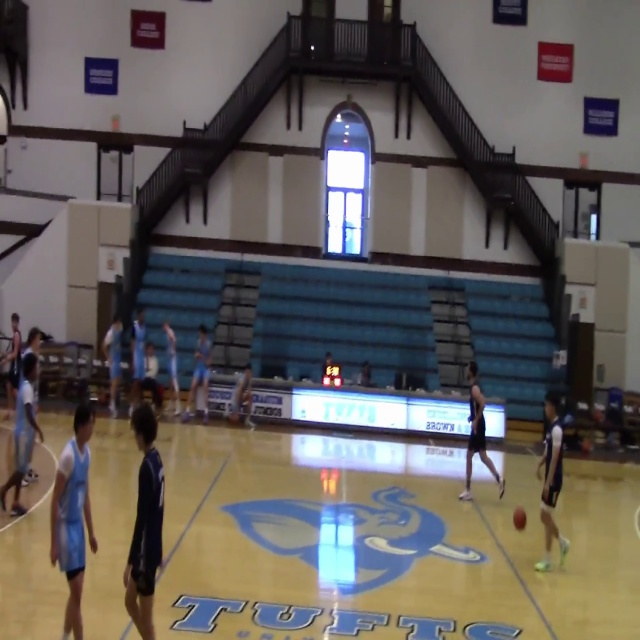Basketball: (513, 505, 526, 531)
